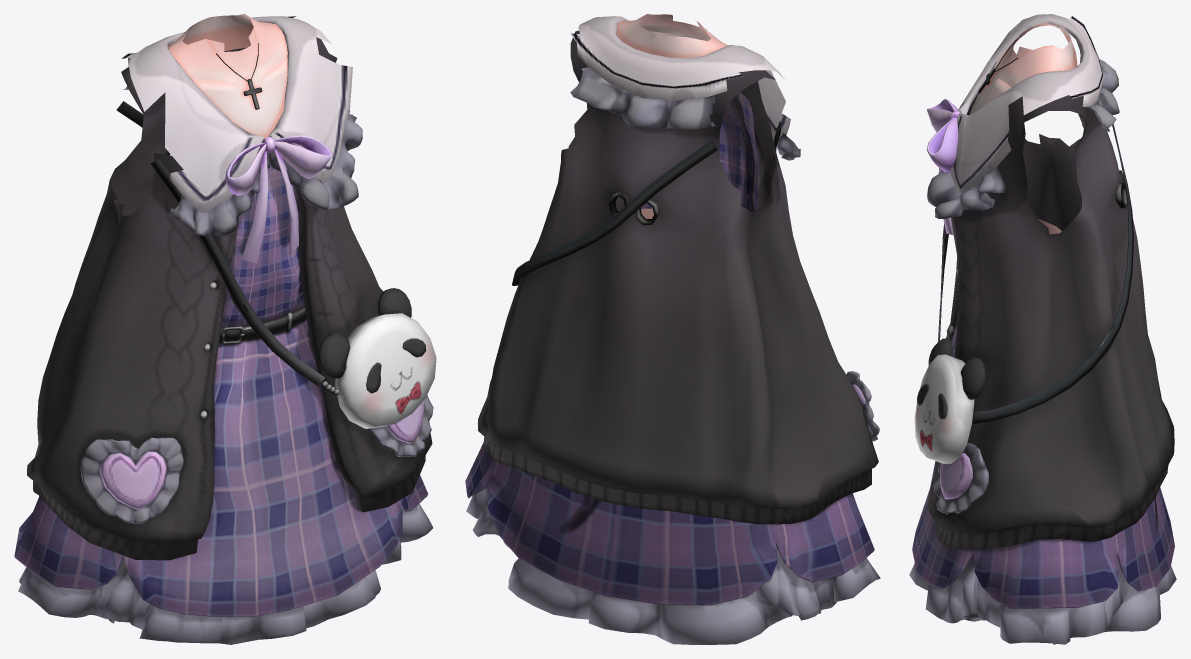
Rendered from body.obj.
The picture shows the model from 3 angles, left to right: view 1: azimuth 30°, elevation 25°; view 2: azimuth 150°, elevation 25°; view 3: azimuth 270°, elevation 25°; orthographic projection. The views are drawn at different scales.
Parts seen in each view (by area): view 1: body; view 2: body; view 3: body.
Boxes of the visible parts, bbox=[...] form: body: bbox=[14, 14, 436, 644]; body: bbox=[465, 14, 880, 644]; body: bbox=[909, 14, 1176, 644].
Size of the model in its own units: 0.4952 by 0.6923 by 0.3009.
3 materials, 3 textured.
